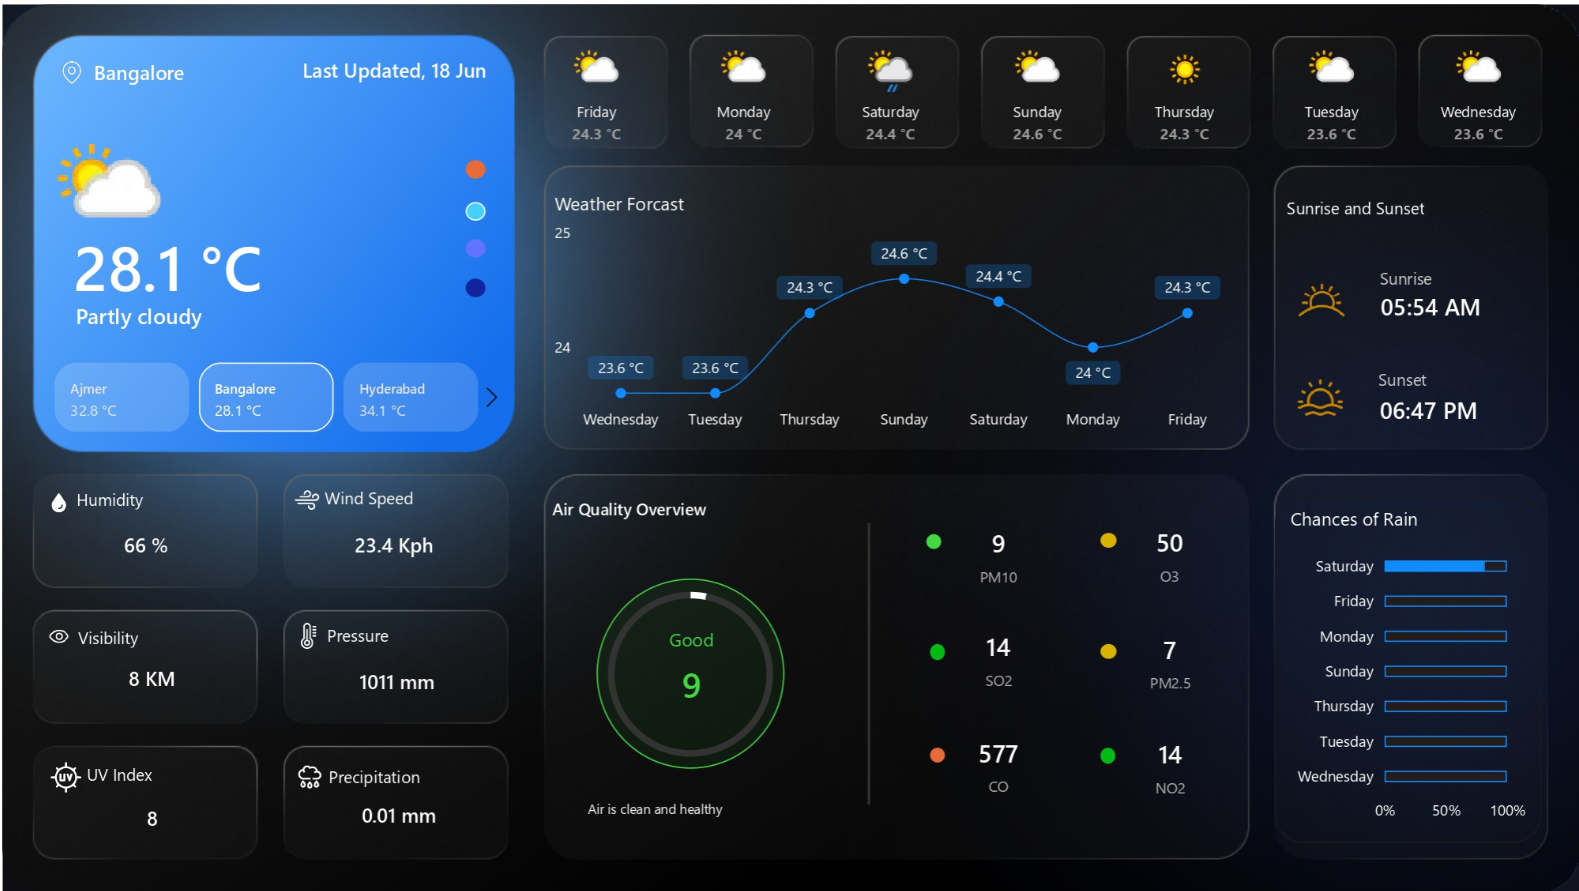

The page's visual inventory and layout, read from the dashboard file:
{"tool":"powerbi","page":{"name":"Page 1","canvas":[1280,720],"ordinal":0},"visuals":[{"type":"advancedSlicerVisual","fields":{"Values":["Locations.location.name"]},"box":[28.3,272.1,387.4,86.9],"z":0},{"type":"shape","box":[37.4,132.1,165.1,79.3],"z":1000},{"type":"shape","box":[35.2,211.4,165.1,50.6],"z":2000},{"type":"shape","box":[61.7,39.6,112.3,50.6],"z":3000},{"type":"shape","box":[226.8,37.4,189.4,55],"z":4000},{"type":"image","box":[28.6,44,27,34],"z":5000},{"type":"cardVisual","fields":{"Data":["Min(Current.current.condition.icon)"]},"box":[167.3,72.7,248.8,196],"z":6000},{"type":"image","box":[33.4,496.3,40,28],"z":7000},{"type":"shape","box":[79.3,491,94.7,28.6],"z":8000},{"type":"image","box":[35,384.9,40,26],"z":9000},{"type":"shape","box":[79.3,380.9,121.1,35.2],"z":10000},{"type":"image","box":[30.2,606,39.8,27],"z":11000},{"type":"shape","box":[79.3,603.3,121.1,35.2],"z":12000},{"type":"image","box":[232.2,384.9,41.4,27],"z":13000},{"type":"shape","box":[273,380.9,143.1,35.2],"z":14000},{"type":"image","box":[233.8,491.5,39.8,28.6],"z":15000},{"type":"shape","box":[273,491,143.1,35.2],"z":16000},{"type":"image","box":[232.2,602.8,41.4,27],"z":17000},{"type":"shape","box":[275.2,603.3,140.9,35.2],"z":18000},{"type":"cardVisual","fields":{"Data":["Sum(Current.current.humidity)"]},"box":[61.7,398.5,118.9,66.1],"z":19000},{"type":"cardVisual","fields":{"Data":["Sum(Current.current.vis_km)"]},"box":[50.6,504.2,138.7,66.1],"z":20000},{"type":"cardVisual","fields":{"Data":["Sum(Current.current.uv)"]},"box":[57.2,618.7,138.7,66.1],"z":21000},{"type":"cardVisual","fields":{"Data":["_Measure.Wind_Speed"]},"box":[245.7,396.9,194.6,66.1],"z":22000},{"type":"cardVisual","fields":{"Data":["Sum(Current.current.pressure_in)"]},"box":[248.8,504.2,143.1,66.1],"z":23000},{"type":"cardVisual","fields":{"Data":["Sum(Current.current.precip_mm)"]},"box":[257,618,141.7,66.1],"z":24000},{"type":"advancedSlicerVisual","fields":{"Values":["Forecast_Day.Day_Name"]},"box":[428.7,16.2,823.2,113.7],"z":25000},{"type":"lineChart","title":"Forecast Weather","fields":{"Y":["Sum(Forecast_Day.forecast.forecastday.day.avgtemp_c)"],"Category":["Forecast_Day.Day_Name"]},"box":[440.2,129.4,571.4,230],"z":26000},{"type":"shape","box":[1038.6,133,240.8,37.7],"z":27000},{"type":"shape","box":[1128.5,192.3,109.6,52.1],"z":28000},{"type":"shape","box":[1128.5,282.1,125.8,34.1],"z":29000},{"type":"shape","box":[1128.5,249.8,77.3,35.9],"z":30000},{"type":"shape","box":[1128.5,170.7,89.8,41.3],"z":31000},{"type":"image","box":[1038.6,176.1,89.8,68.3],"z":32000},{"type":"image","box":[1038.6,257,89.8,55.7],"z":33000},{"type":"hundredPercentStackedBarChart","title":"Chance of Rain","fields":{"Y":["Sum(Forecast_Day.forecast.forecastday.day.daily_chance_of_rain)","_Measure.left_value_rain"],"Category":["Forecast_Day.Day_Name"]},"box":[1025.6,376.4,229.6,307.3],"z":34000},{"type":"shape","box":[452.4,376.4,240,38],"z":35000},{"type":"cardVisual","fields":{"Data":["Sum(Current.current.air_quality.pm10)"]},"box":[726.2,420.1,117.6,88.2],"z":36000},{"type":"cardVisual","fields":{"Data":["Sum(Current.current.air_quality.o3)"]},"box":[893.9,420.1,117.6,88.2],"z":37000},{"type":"cardVisual","fields":{"Data":["Sum(Current.current.air_quality.pm2_5)"]},"box":[893.9,508.3,117.6,88.2],"z":38000},{"type":"cardVisual","fields":{"Data":["Sum(Current.current.air_quality.no2)"]},"box":[893.9,596.5,117.6,88.2],"z":39000},{"type":"cardVisual","fields":{"Data":["Sum(Current.current.air_quality.so2)"]},"box":[726.2,511.8,117.6,88.2],"z":40000},{"type":"cardVisual","fields":{"Data":["Sum(Current.current.air_quality.co)"]},"box":[726.2,596.5,117.6,88.2],"z":41000},{"type":"shape","box":[726.2,453,20,20.7],"z":42000},{"type":"shape","box":[726.2,542.9,20,20.7],"z":43000},{"type":"shape","box":[726.2,631.1,20,20.7],"z":44000},{"type":"shape","box":[893.9,454.7,20,20.7],"z":45000},{"type":"shape","box":[893.9,542.9,20,20.7],"z":46000},{"type":"shape","box":[893.9,631.1,20,20.7],"z":47000}]}

Visuals, with their boxes in screenshot pixels (x1, y1, x2, y2), scaled from the page's 1280x720 canvas onto the 1579x891 screenshot:
advancedSlicerVisual - Locations.location.name: rect(35, 337, 513, 444)
shape: rect(46, 163, 250, 262)
shape: rect(43, 262, 247, 324)
shape: rect(76, 49, 215, 112)
shape: rect(280, 46, 513, 114)
image: rect(35, 54, 69, 97)
cardVisual - Min(Current.current.condition.icon): rect(206, 90, 513, 333)
image: rect(41, 614, 91, 649)
shape: rect(98, 608, 215, 643)
image: rect(43, 476, 93, 508)
shape: rect(98, 471, 247, 515)
image: rect(37, 750, 86, 783)
shape: rect(98, 747, 247, 790)
image: rect(286, 476, 338, 510)
shape: rect(337, 471, 513, 515)
image: rect(288, 608, 338, 644)
shape: rect(337, 608, 513, 651)
image: rect(286, 746, 338, 779)
shape: rect(339, 747, 513, 790)
cardVisual - Sum(Current.current.humidity): rect(76, 493, 223, 575)
cardVisual - Sum(Current.current.vis_km): rect(62, 624, 234, 706)
cardVisual - Sum(Current.current.uv): rect(71, 766, 242, 847)
cardVisual - _Measure.Wind_Speed: rect(303, 491, 543, 573)
cardVisual - Sum(Current.current.pressure_in): rect(307, 624, 483, 706)
cardVisual - Sum(Current.current.precip_mm): rect(317, 765, 492, 847)
advancedSlicerVisual - Forecast_Day.Day_Name: rect(529, 20, 1544, 161)
"Forecast Weather" lineChart: rect(543, 160, 1248, 445)
shape: rect(1281, 165, 1578, 211)
shape: rect(1392, 238, 1527, 302)
shape: rect(1392, 349, 1547, 391)
shape: rect(1392, 309, 1487, 354)
shape: rect(1392, 211, 1503, 262)
image: rect(1281, 218, 1392, 302)
image: rect(1281, 318, 1392, 387)
"Chance of Rain" hundredPercentStackedBarChart: rect(1265, 466, 1548, 846)
shape: rect(558, 466, 854, 513)
cardVisual - Sum(Current.current.air_quality.pm10): rect(896, 520, 1041, 629)
cardVisual - Sum(Current.current.air_quality.o3): rect(1103, 520, 1248, 629)
cardVisual - Sum(Current.current.air_quality.pm2_5): rect(1103, 629, 1248, 738)
cardVisual - Sum(Current.current.air_quality.no2): rect(1103, 738, 1248, 847)
cardVisual - Sum(Current.current.air_quality.so2): rect(896, 633, 1041, 742)
cardVisual - Sum(Current.current.air_quality.co): rect(896, 738, 1041, 847)
shape: rect(896, 561, 921, 586)
shape: rect(896, 672, 921, 697)
shape: rect(896, 781, 921, 807)
shape: rect(1103, 563, 1127, 588)
shape: rect(1103, 672, 1127, 697)
shape: rect(1103, 781, 1127, 807)
